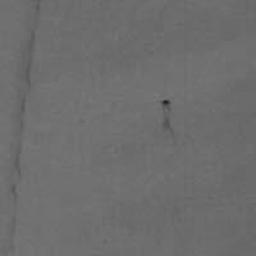Inclusion: (3, 0, 44, 256), (159, 97, 182, 151)
